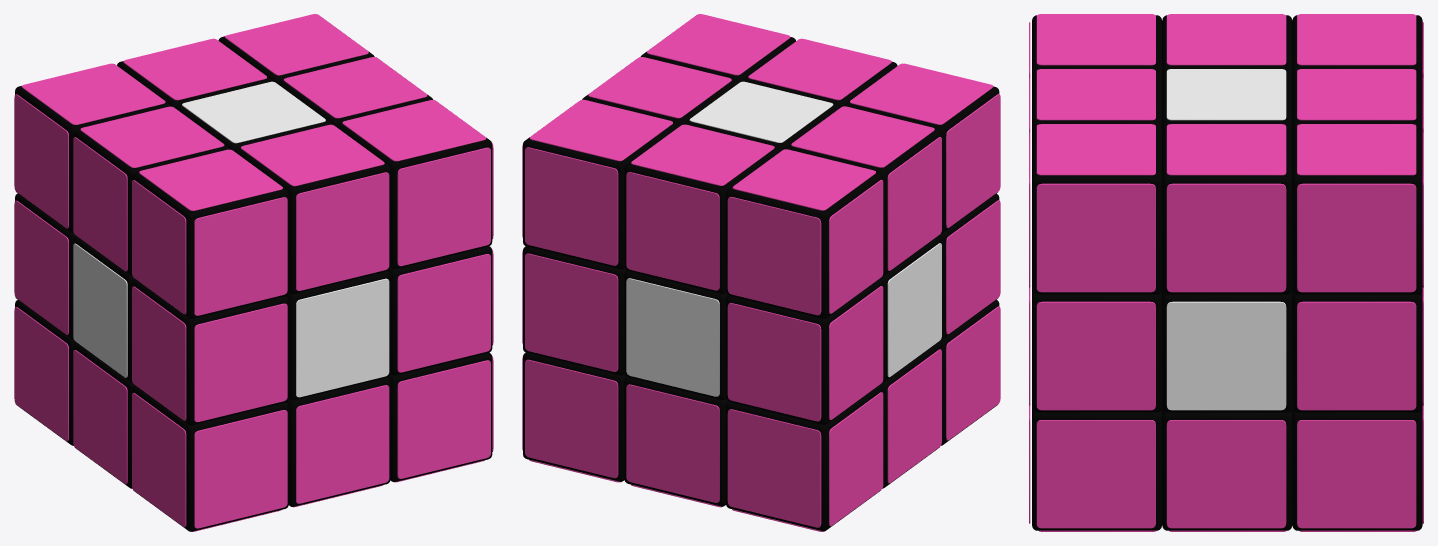
File: rubics_cube.glb
3 views of the same model, side by side, from view 1: azimuth 30°, elevation 25°; view 2: azimuth 150°, elevation 25°; view 3: azimuth 270°, elevation 25° (orthographic). The views are drawn at different scales.
Visible parts, largest first — view 1: Object008_Material #25_0, Object002_Material #25_0, Object003_Material #25_0, Object004_Material #25_0, Object006_Material #25_0, Object007_Material #25_0, Object001_Material #25_0, Object005_Material #26_0, Object009_Material #25_0, Object031_Material #25_0, Object033_Material #25_0, Object029_Material #25_0 (+34 smaller); view 2: Object010_Material #25_0, Object011_Material #25_0, Object012_Material #25_0, Object015_Material #25_0, Object013_Material #25_0, Object014_Material #26_0, Object016_Material #25_0, Object018_Material #25_0, Object017_Material #25_0, Object029_Material #25_0, Object030_Material #25_0, Object028_Material #25_0 (+34 smaller); view 3: Object023_Material #26_0, Object024_Material #25_0, Object020_Material #25_0, Object026_Material #25_0, Object021_Material #25_0, Object027_Material #25_0, Object022_Material #25_0, Object019_Material #25_0, Object025_Material #25_0, Object049_Material #25_0, Object050_Material #26_0, Object051_Material #25_0 (+21 smaller).
Boxes of the visible parts, x1,y1,x2,y2 form: Object008_Material #25_0: [397, 254, 490, 372]; Object002_Material #25_0: [194, 303, 287, 422]; Object003_Material #25_0: [194, 197, 287, 315]; Object004_Material #25_0: [296, 385, 389, 503]; Object006_Material #25_0: [296, 172, 389, 290]; Object007_Material #25_0: [397, 360, 490, 478]; Object001_Material #25_0: [194, 410, 287, 528]; Object005_Material #26_0: [296, 278, 389, 397]; Object009_Material #25_0: [397, 147, 490, 266]; Object031_Material #25_0: [73, 137, 127, 271]; Object033_Material #25_0: [73, 350, 127, 484]; Object029_Material #25_0: [132, 286, 186, 420]; Object010_Material #25_0: [727, 196, 821, 315]; Object011_Material #25_0: [727, 303, 821, 421]; Object012_Material #25_0: [727, 409, 821, 527]; Object015_Material #25_0: [626, 384, 719, 502]; Object013_Material #25_0: [626, 172, 719, 290]; Object014_Material #26_0: [626, 278, 719, 396]; Object016_Material #25_0: [525, 147, 618, 265]; Object018_Material #25_0: [525, 359, 618, 478]; Object017_Material #25_0: [525, 253, 618, 371]; Object029_Material #25_0: [946, 200, 1000, 334]; Object030_Material #25_0: [946, 306, 1000, 440]; Object028_Material #25_0: [946, 94, 1000, 227]; Object023_Material #26_0: [1166, 301, 1286, 410]; Object024_Material #25_0: [1166, 183, 1286, 292]; Object020_Material #25_0: [1036, 301, 1155, 410]; Object026_Material #25_0: [1297, 301, 1416, 410]; Object021_Material #25_0: [1036, 183, 1155, 292]; Object027_Material #25_0: [1297, 183, 1416, 292]; Object022_Material #25_0: [1166, 420, 1286, 528]; Object019_Material #25_0: [1036, 420, 1155, 528]; Object025_Material #25_0: [1297, 420, 1416, 528]; Object049_Material #25_0: [1166, 124, 1286, 175]; Object050_Material #26_0: [1166, 69, 1286, 120]; Object051_Material #25_0: [1166, 14, 1286, 65].
Bounding box in the file's own units: 72.74 × 72.74 × 72.74.
